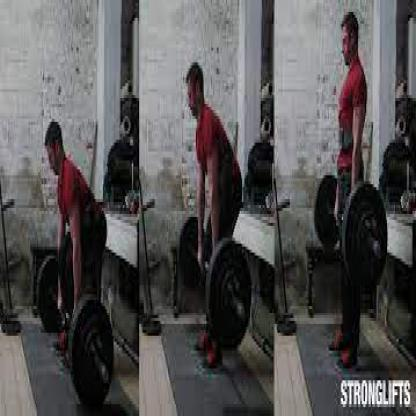barbell: (35, 256, 115, 409), (176, 216, 254, 352), (314, 173, 390, 293)
